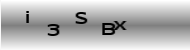3: (46, 22, 61, 38)
B: (100, 22, 116, 36)
S: (73, 10, 89, 25)
i: (23, 9, 32, 24)
x: (113, 19, 128, 31)
